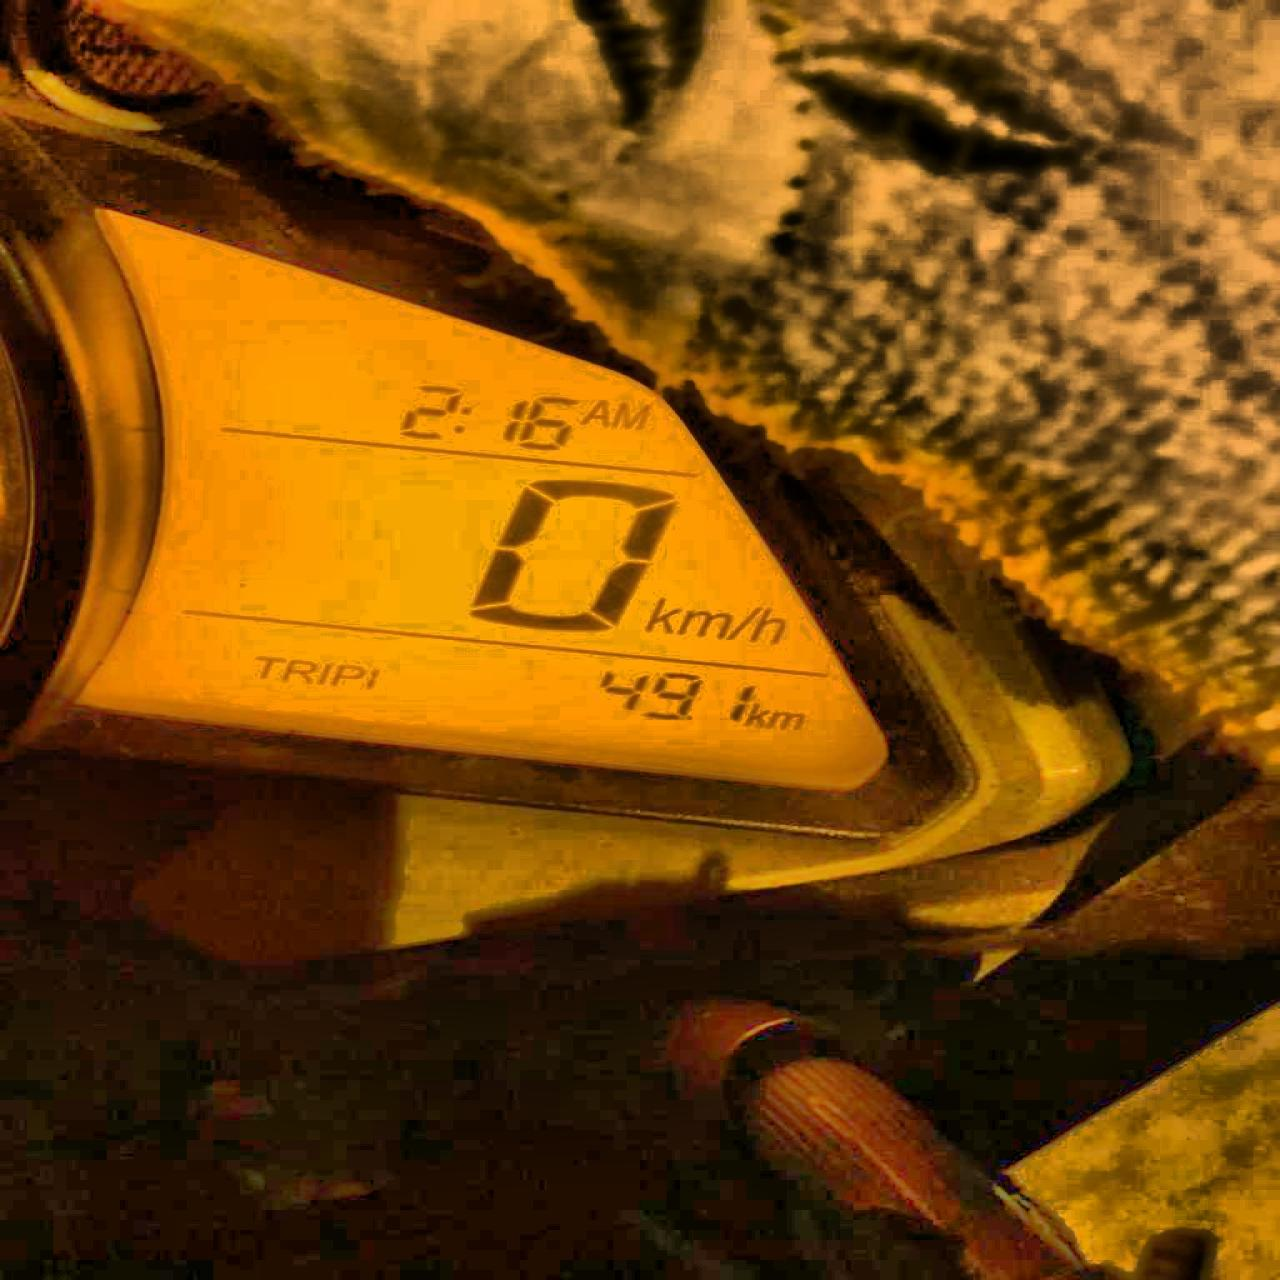-: (683, 713, 695, 726)
0: (464, 469, 679, 633)
1: (501, 394, 522, 447), (728, 680, 750, 721), (365, 666, 380, 689)
2: (399, 380, 458, 441)
4: (594, 669, 648, 710)
6: (522, 393, 576, 450)
9: (647, 666, 701, 720)
X: (750, 604, 788, 648), (676, 606, 727, 639), (645, 594, 676, 636), (727, 601, 761, 639), (610, 401, 651, 429), (580, 396, 610, 429), (332, 659, 363, 688), (281, 656, 313, 683), (767, 709, 803, 731), (253, 653, 281, 678), (747, 702, 767, 728), (455, 406, 471, 435), (313, 660, 328, 690)
odometer: (45, 199, 913, 792)
